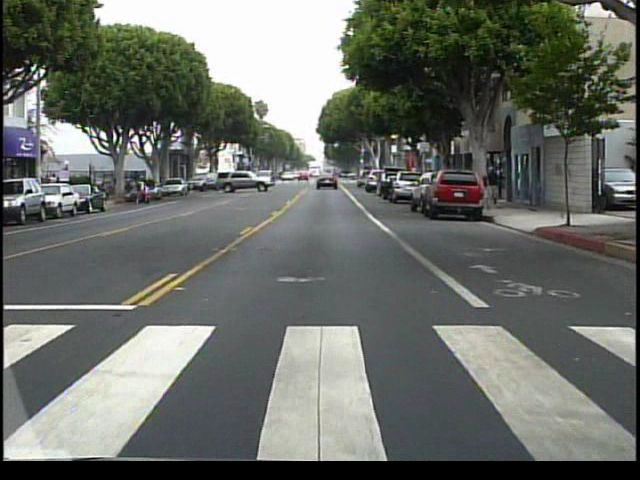person: (482, 168, 503, 213), (135, 177, 153, 209)
